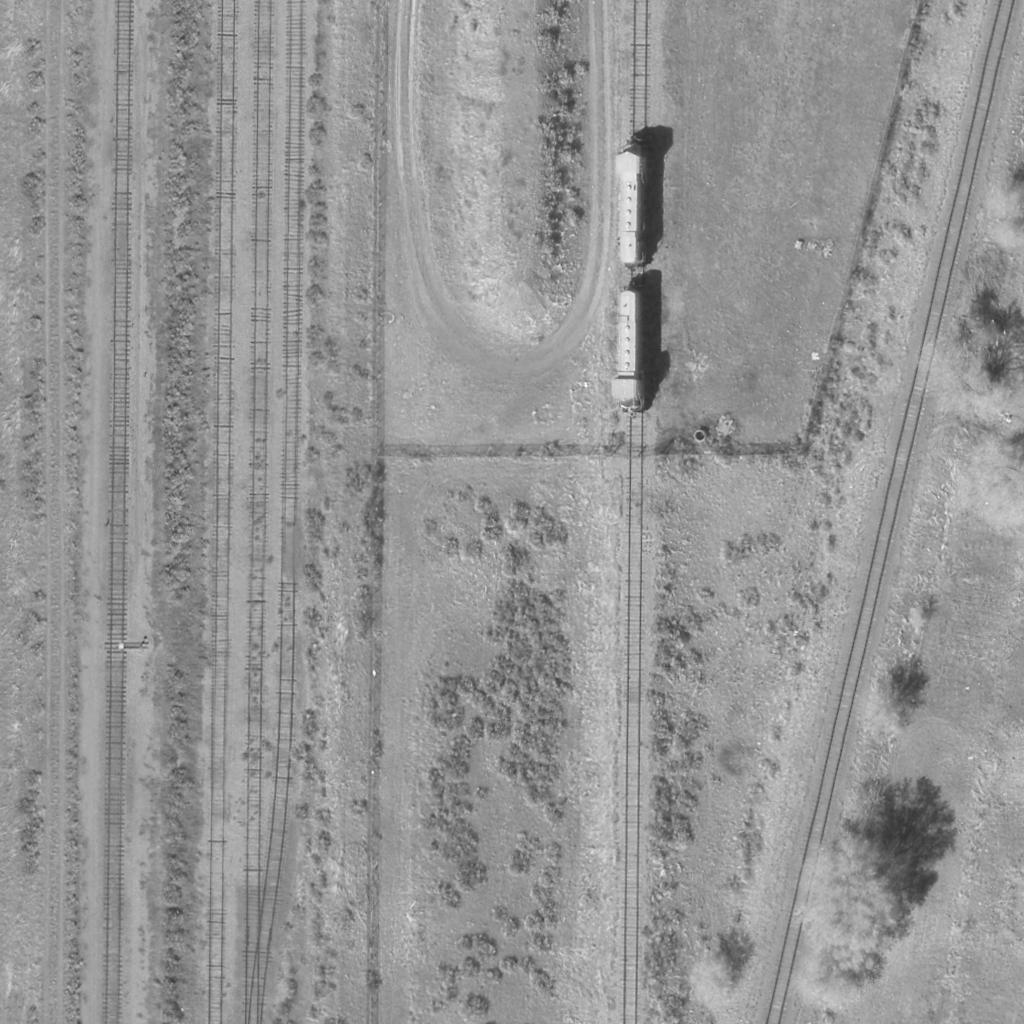vehicle: (611, 147, 647, 265), (611, 292, 643, 412)
